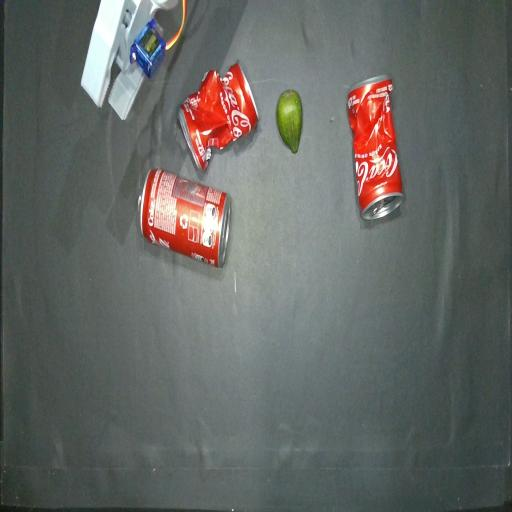higo: (276, 90, 302, 153)
lata: (139, 169, 231, 267)
lata_defectuoso: (179, 64, 258, 170), (347, 75, 403, 219)
